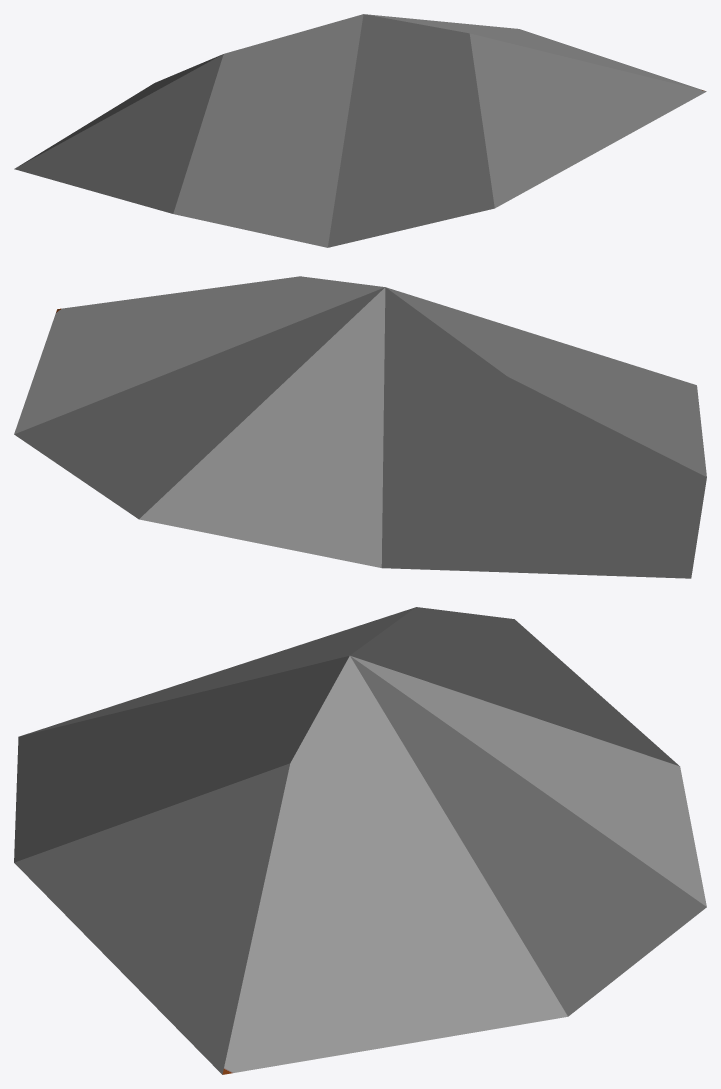
Rendered from steen 2.fbx.
3 renders of one model, top to bottom at view 1: azimuth 30°, elevation 25°; view 2: azimuth 150°, elevation 25°; view 3: azimuth 270°, elevation 25°, orthographic. The views are drawn at different scales.
Parts seen in each view (by area): view 1: pPyramid3; view 2: pPyramid3; view 3: pPyramid3.
Boxes of the visible parts, x1,y1,x2,y2 form: pPyramid3: [14, 14, 706, 247]; pPyramid3: [14, 276, 706, 578]; pPyramid3: [14, 607, 706, 1074].
Size of the model in its own units: 13.52 by 2.62 by 8.69.
Materials: 1 (1 with a texture image).
